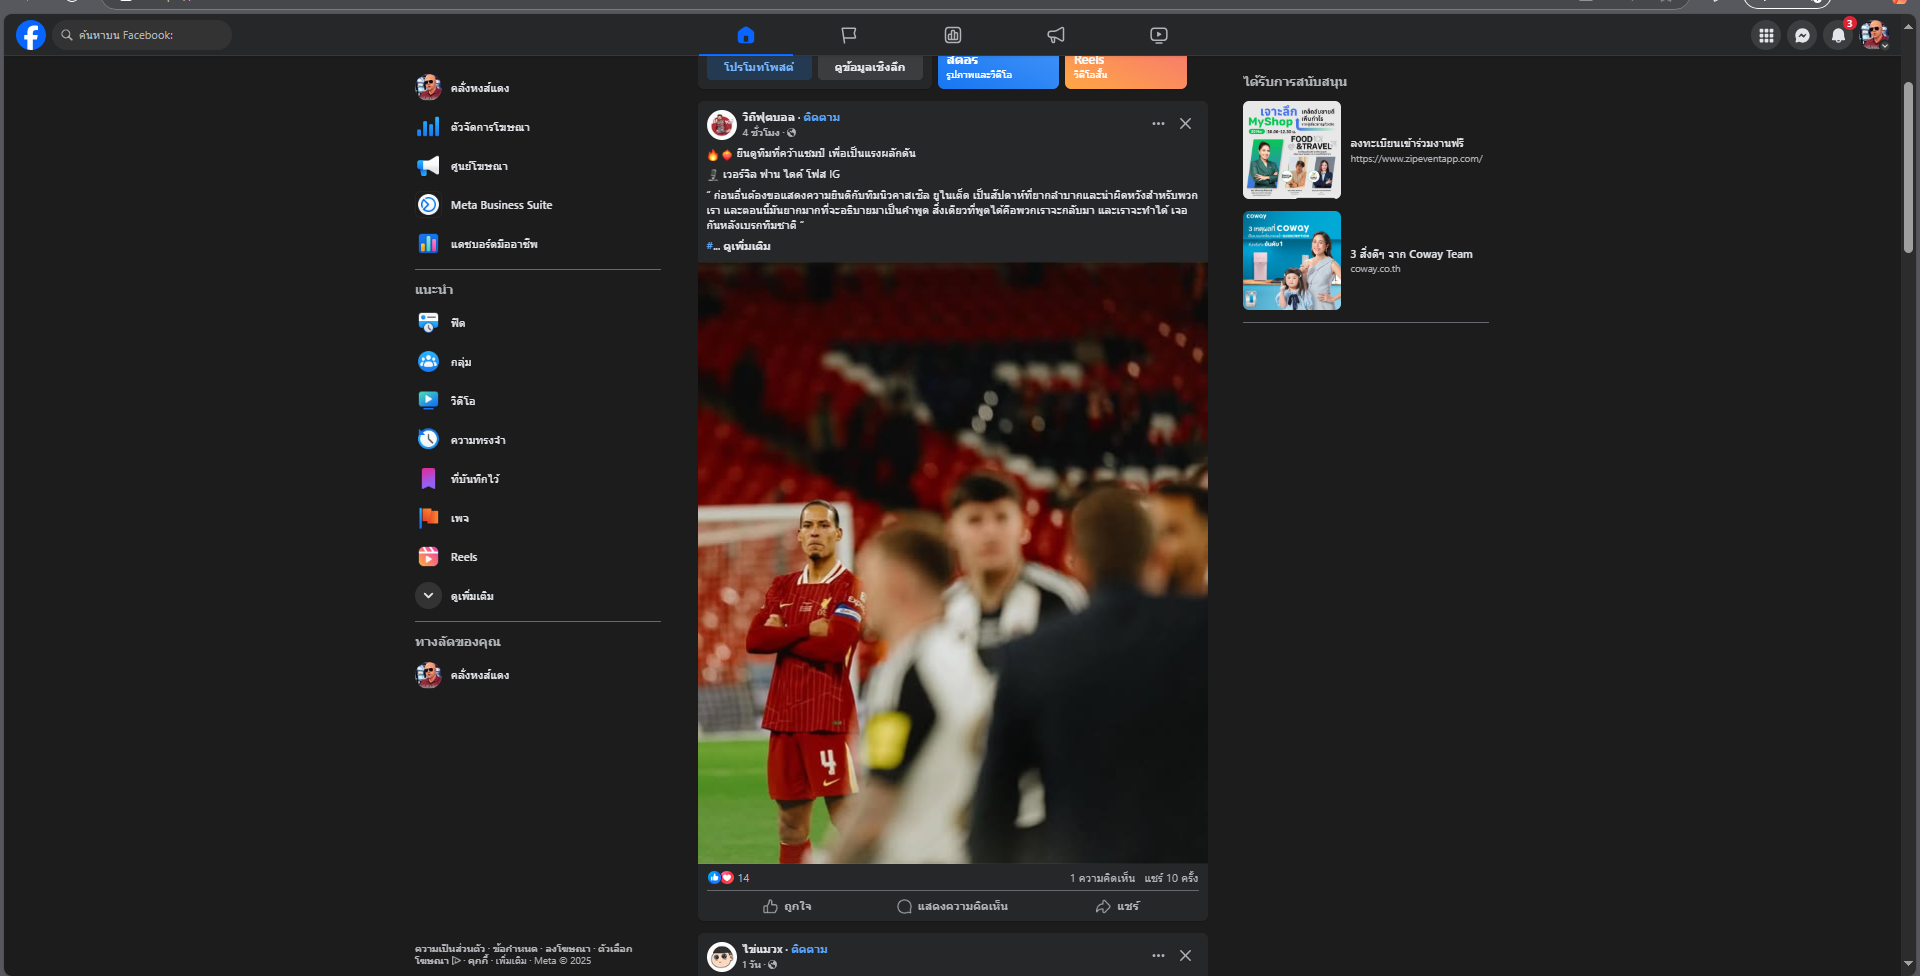topic: (669, 93, 1238, 927)
